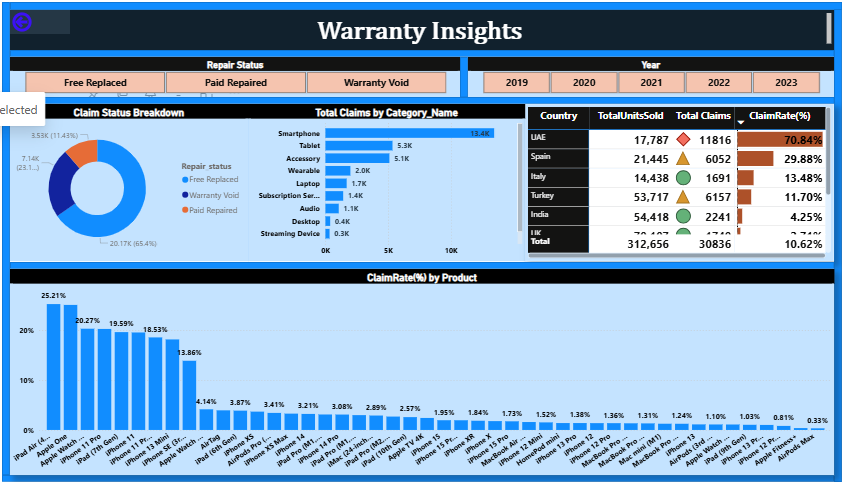

The dashboard page shown, as its layout file describes it:
{"tool":"powerbi","page":{"name":"Warranty Insights","canvas":[1400,800],"ordinal":2},"visuals":[{"type":"donutChart","title":"Claim Status Breakdown","fields":{"Y":["CountNonNull(Warranty.Claim_id)"],"Category":["Warranty.Repair_status"]},"box":[13.1,170.5,396.7,262.3],"z":0},{"type":"textbox","box":[13.1,13.1,1373.8,67.2],"z":1000},{"type":"shape","box":[0,788.5,1386.9,11.5],"z":2000},{"type":"shape","box":[13.1,0,1386.9,13.1],"z":3000},{"type":"shape","box":[1386.9,11.5,13.1,788.5],"z":4000},{"type":"shape","box":[0,0,13.1,788.5],"z":5000},{"type":"slicer","title":"Repair Status","fields":{"Values":["Warranty.Repair_status"]},"box":[13.1,91.8,750.8,67.2],"z":6000},{"type":"slicer","title":"Year","fields":{"Values":["Datetable.Date.Variation.Date Hierarchy.Year"]},"box":[777,91.8,609.8,67.2],"z":7000},{"type":"pivotTable","fields":{"Rows":["Stores.Country"],"Values":["Sales.TotalUnitsSold","Warranty.Total Claims","Warranty.ClaimRate(%)"]},"box":[872.1,170.5,514.8,262.3],"z":8000},{"type":"columnChart","title":"Top 10 ClaimRate(%) by Product","fields":{"Category":["Products.Product_name"],"Y":["Warranty.ClaimRate(%)"]},"box":[12.9,444.3,858.6,344.3],"z":9000},{"type":"clusteredBarChart","fields":{"Category":["Category.Category_Name"],"Y":["Warranty.Total Claims"]},"box":[409.8,170.5,462.3,262.3],"z":10000},{"type":"shape","box":[13.1,80.3,1373.8,11.5],"z":11000},{"type":"shape","box":[13.1,432.8,1373.8,11.5],"z":12000},{"type":"shape","box":[13.1,159,1374,11.5],"z":13000},{"type":"shape","box":[763.9,91.8,13.1,67.2],"z":14000},{"type":"actionButton","box":[13.3,13.3,100,40],"z":15000},{"type":"pieChart","fields":{"Category":["Products.PriceSegment"],"Y":["Warranty.Total Claims"]},"box":[871.4,444.3,515.7,344.3],"z":15001}]}

Visuals, with their boxes in screenshot pixels (x1, y1, x2, y2), scaled from the page's 1400x800 canvas onto the 843x482 screenshot:
"Claim Status Breakdown" donutChart: [8, 103, 247, 261]
textbox: [8, 8, 835, 48]
shape: [0, 475, 835, 481]
shape: [8, 0, 842, 8]
shape: [835, 7, 842, 481]
shape: [0, 0, 8, 475]
"Repair Status" slicer: [8, 55, 460, 96]
"Year" slicer: [468, 55, 835, 96]
pivotTable - Stores.Country x Sales.TotalUnitsSold: [525, 103, 835, 261]
"Top 10 ClaimRate(%) by Product" columnChart: [8, 268, 525, 475]
clusteredBarChart - Category.Category_Name x Warranty.Total Claims: [247, 103, 525, 261]
shape: [8, 48, 835, 55]
shape: [8, 261, 835, 268]
shape: [8, 96, 835, 103]
shape: [460, 55, 468, 96]
actionButton: [8, 8, 68, 32]
pieChart - Products.PriceSegment x Warranty.Total Claims: [525, 268, 835, 475]
